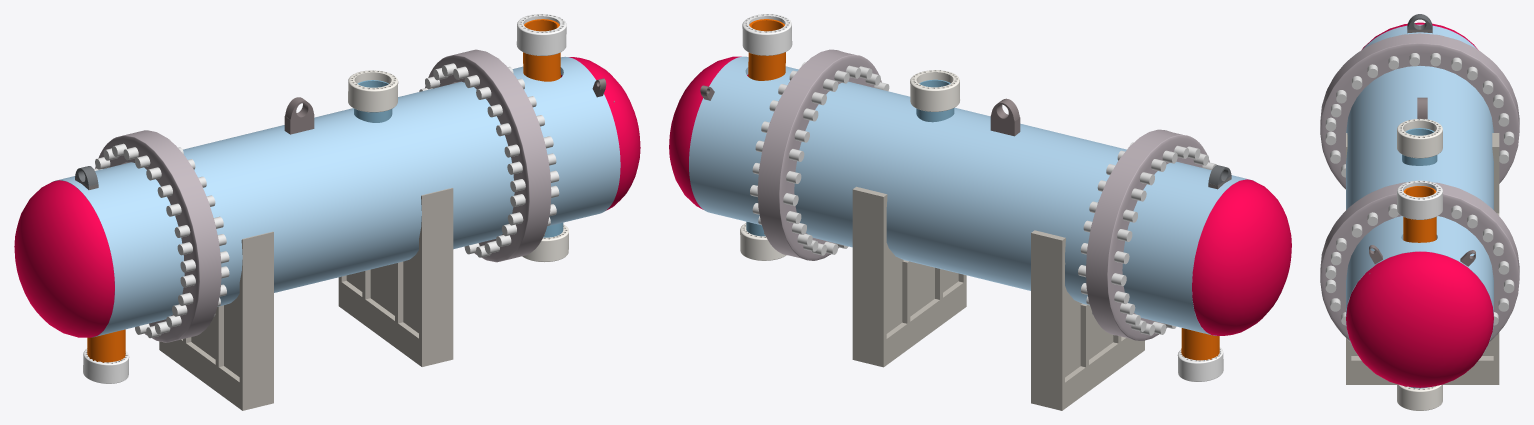
File: trocador de calor.glb
3 views of the same model, side by side, from view 1: azimuth 30°, elevation 25°; view 2: azimuth 150°, elevation 25°; view 3: azimuth 270°, elevation 25° (orthographic). The views are drawn at different scales.
Parts seen in each view (by area): view 1: Body3, Body1; view 2: Body3, Body1; view 3: Body3, Body1.
Part boxes in pixels (x1,y1,x2,y2): Body3: (14, 14, 640, 410); Body1: (522, 222, 568, 262); Body3: (669, 14, 1291, 410); Body1: (740, 221, 786, 260); Body3: (1320, 14, 1519, 387); Body1: (1397, 384, 1442, 410).
Size of the model in its own units: 124 by 54.64 by 39.
